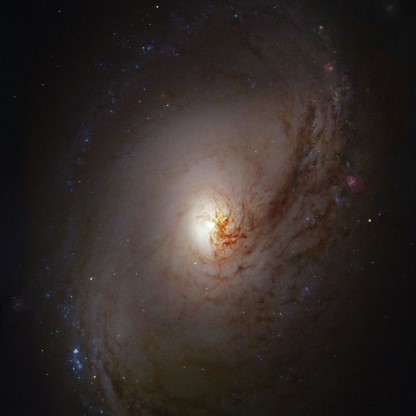Messier 96: (39, 13, 378, 415)
